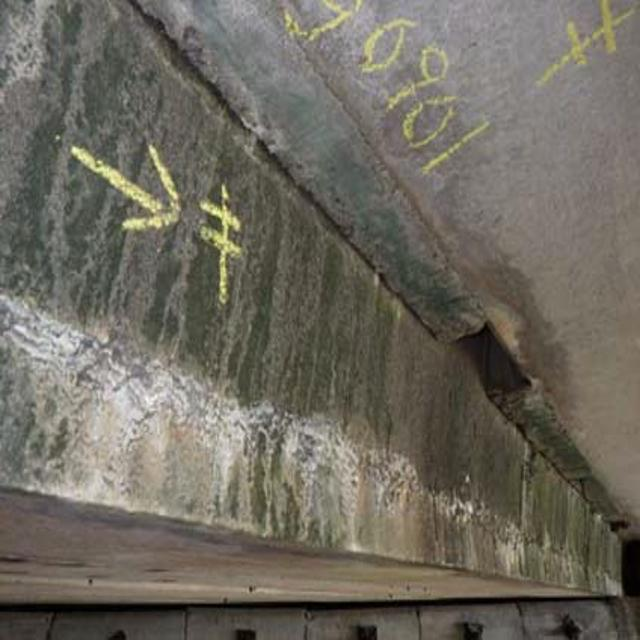freelime: (33, 318, 416, 508)
